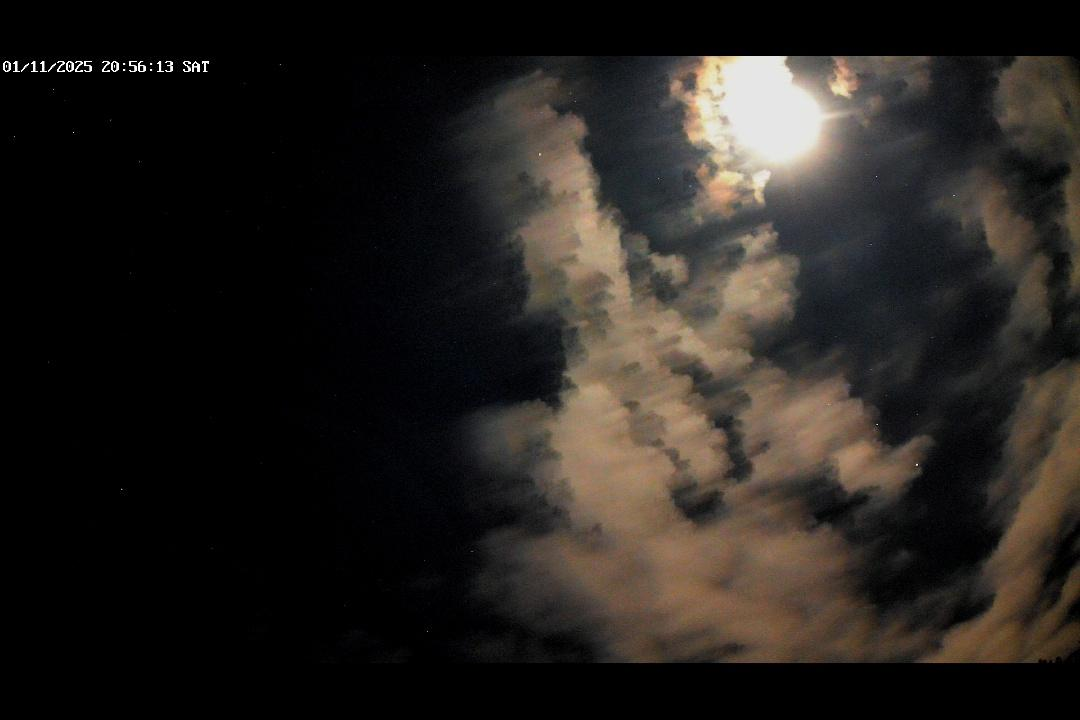WildLife: (712, 112, 734, 128)
